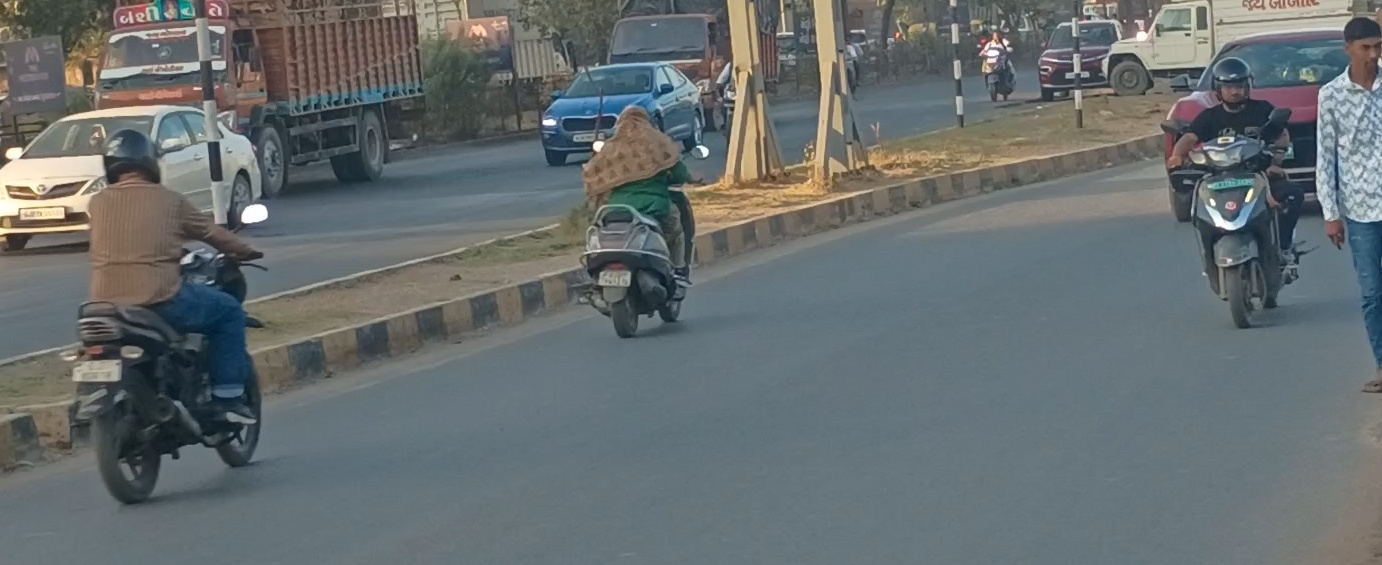BikeWithRider: (38, 94, 288, 523), (1138, 50, 1333, 346), (543, 86, 741, 352)
Helmet: (84, 107, 171, 202), (1200, 59, 1265, 116)
NoHelmet: (608, 97, 665, 140)
